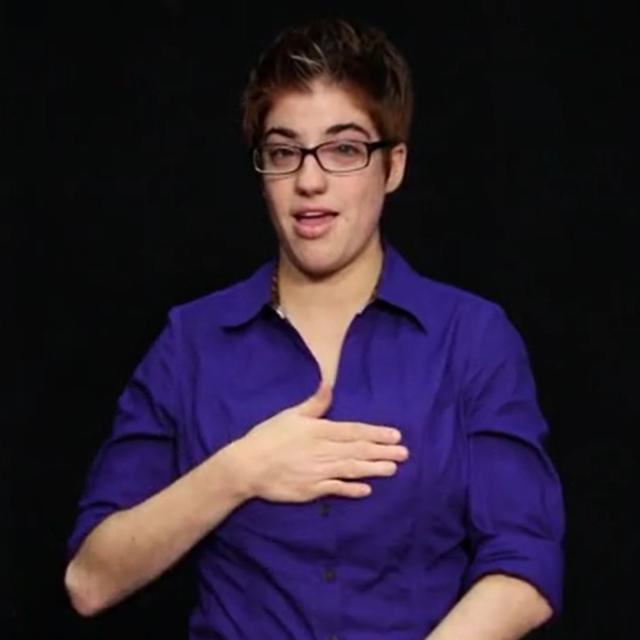my: (247, 379, 409, 503)
